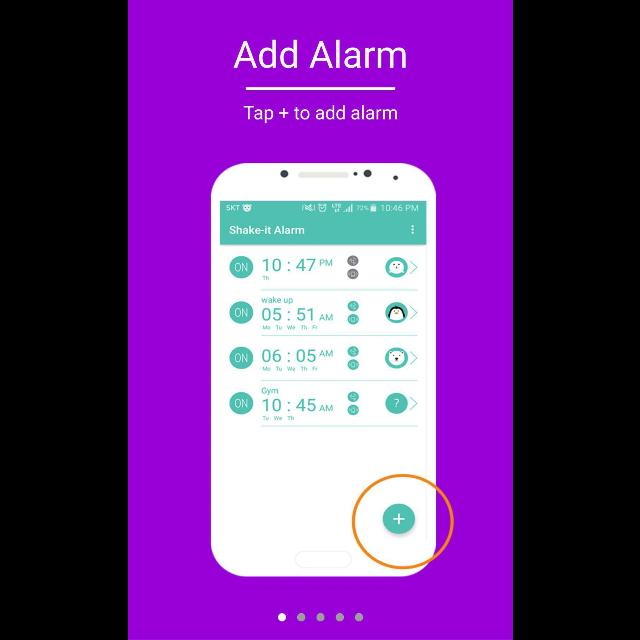image: (210, 163, 454, 577)
pageindicator: (277, 612, 363, 622)
text: (232, 39, 406, 69), (242, 106, 396, 124)
